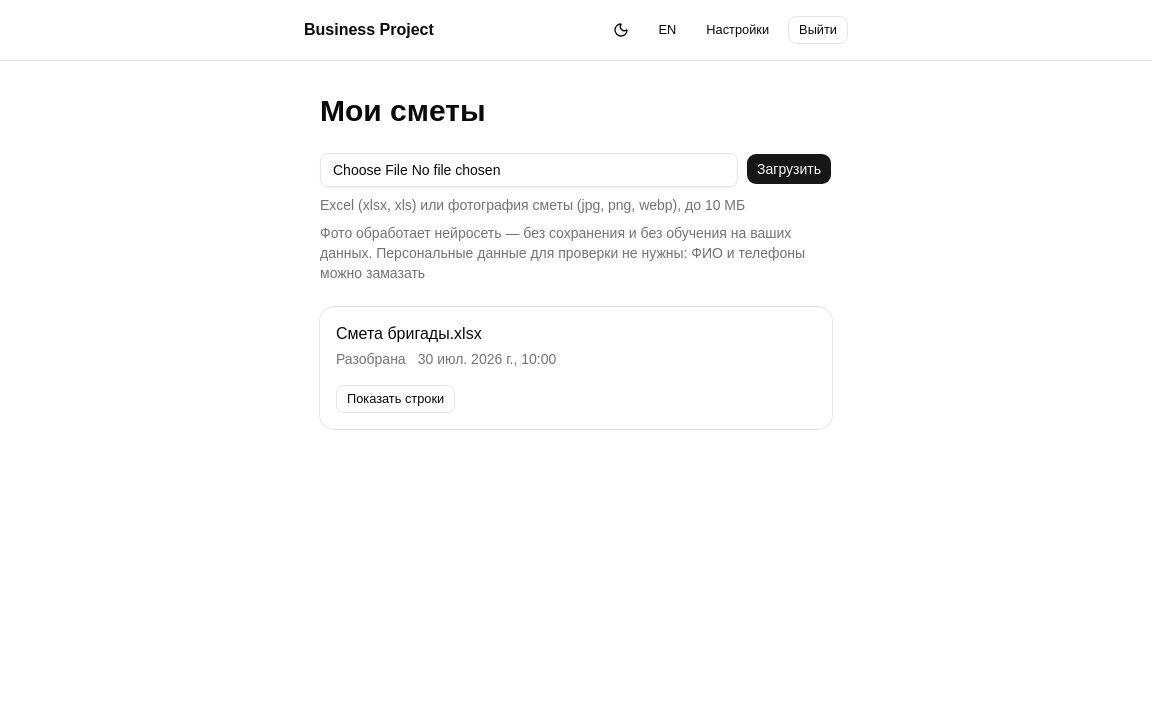
it: строки сметы открываются по кнопке, непонятое показано отдельно
This screenshot has width=1152, height=720.
Step 1. Click the button "Показать строки" → {"x": 396, "y": 399}, box [336, 385, 455, 413]
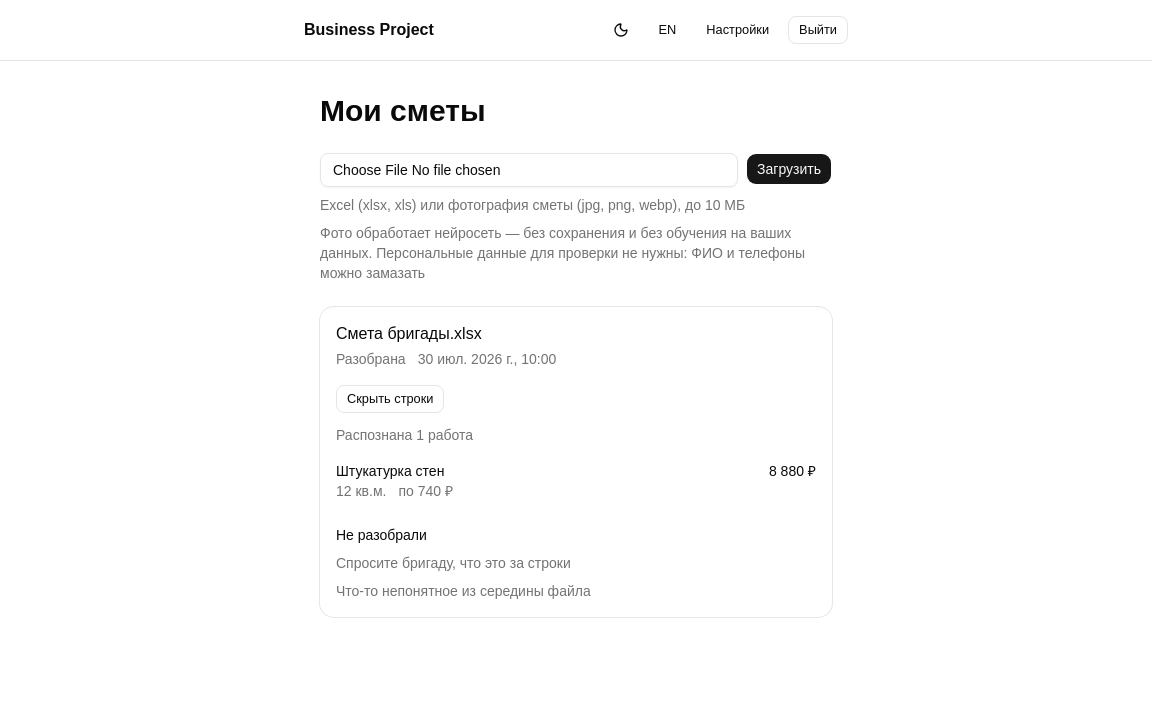
Check: the text "Штукатурка стен" is shown, box [336, 461, 444, 481]
Check: the text "Распознана 1 работа" is shown, box [336, 427, 473, 443]
Check: the text "Спросите бригаду, что это за строки" is shown, box [336, 555, 571, 571]
